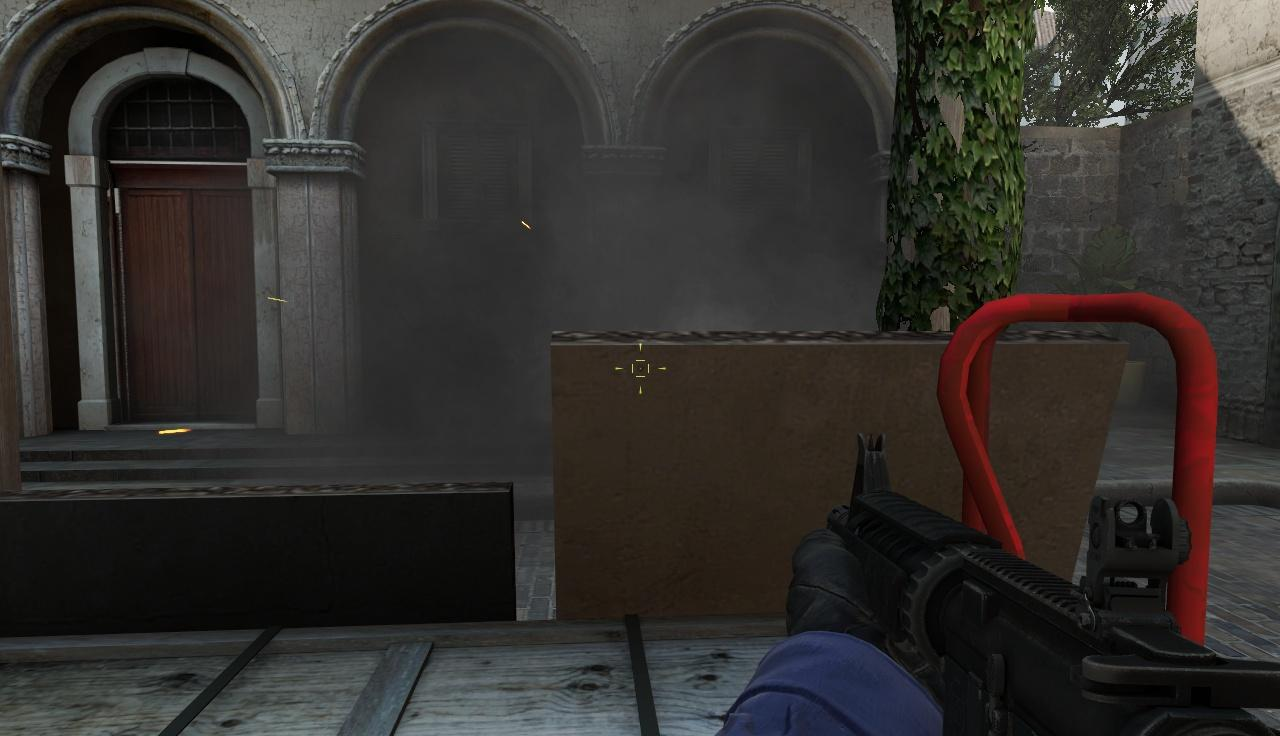rifle: (809, 434, 1280, 736)
